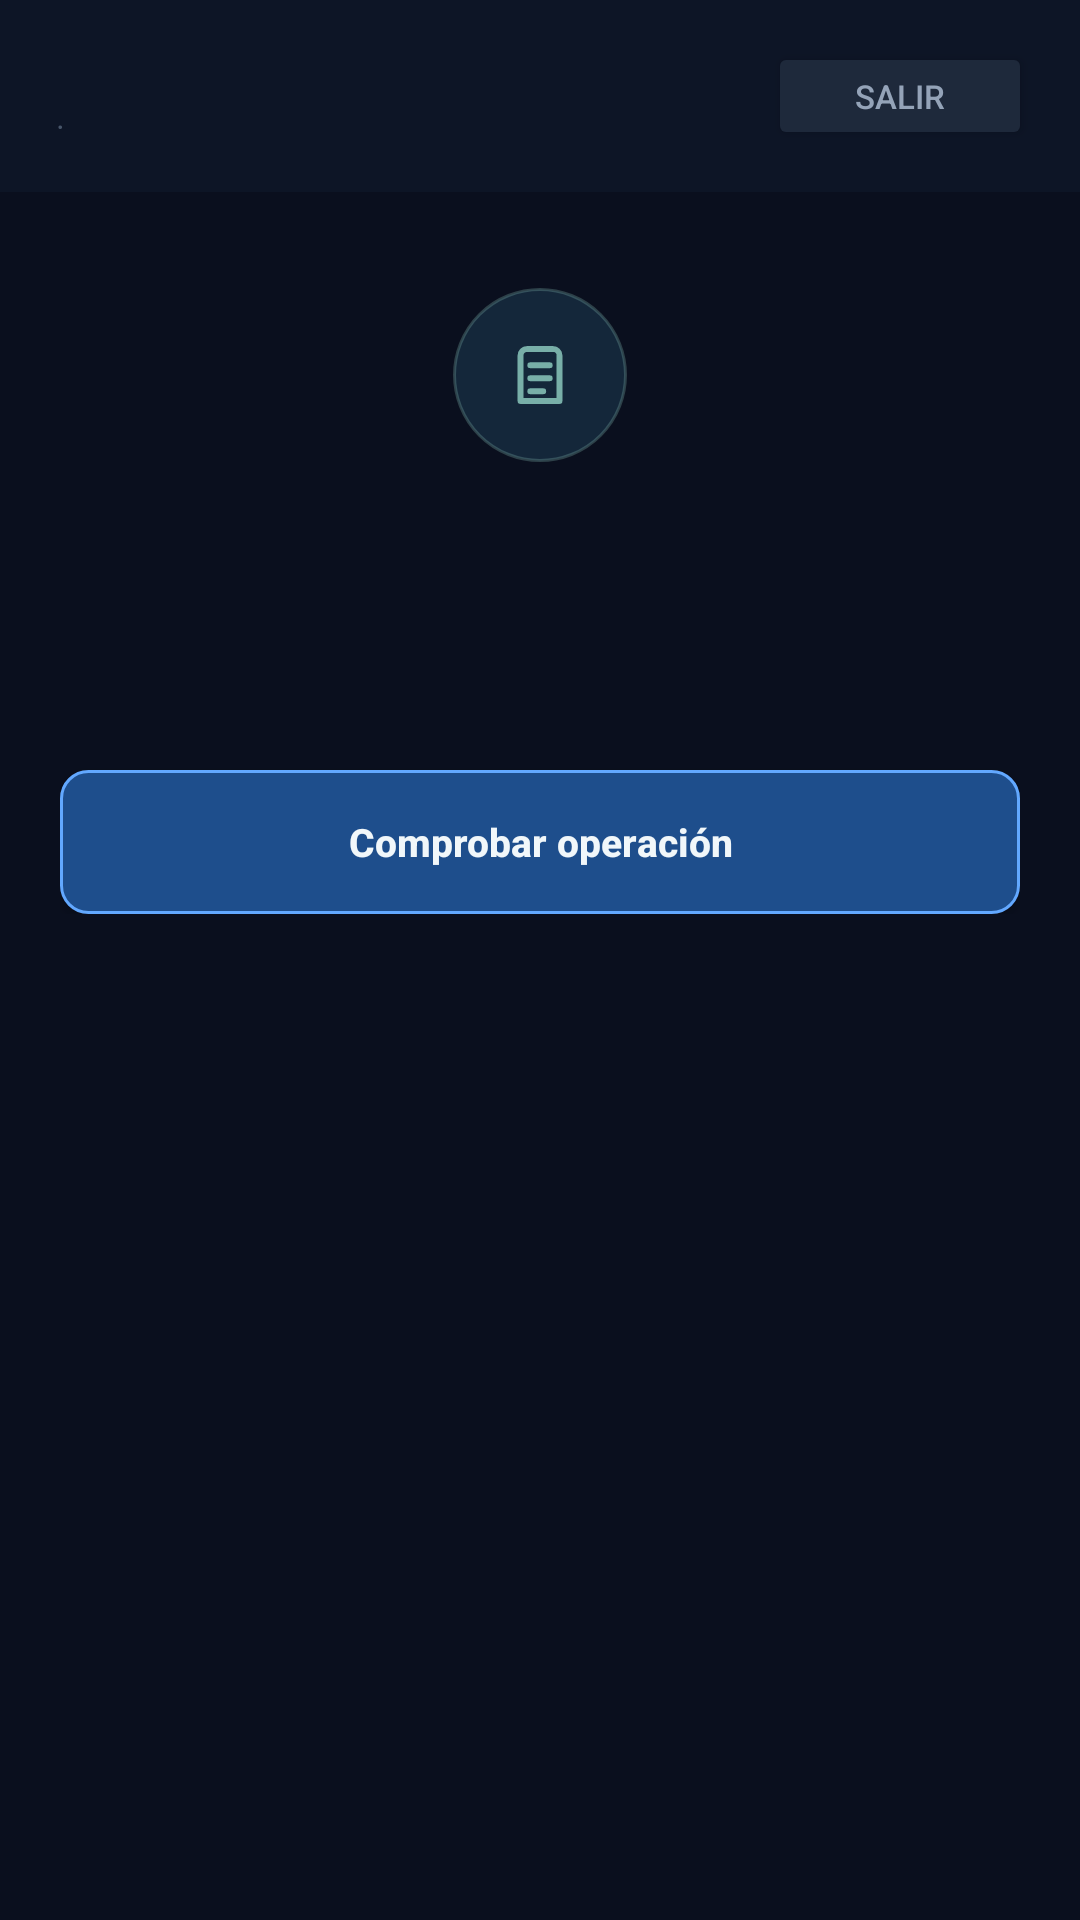

Locate icon controls on the screen. Image size 1080 × 1920, boxes as (x1, y1, x2, y2).
Estado de la operación: (453, 288, 627, 462)
